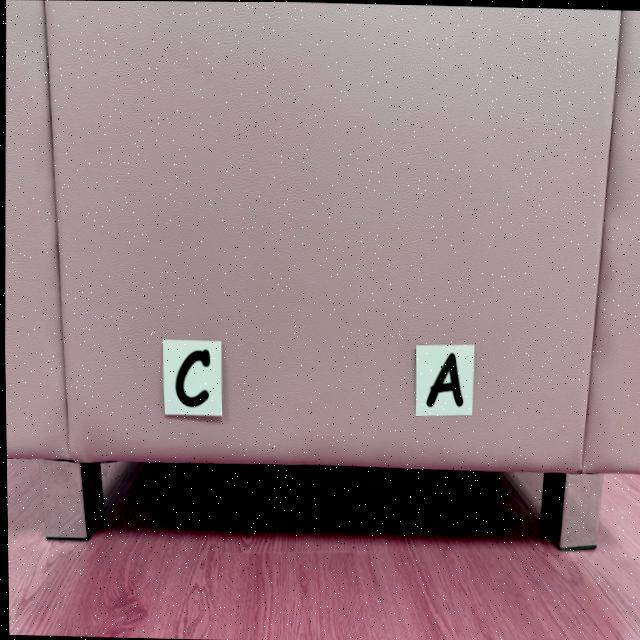A: (425, 351, 462, 406)
C: (173, 349, 209, 406)
